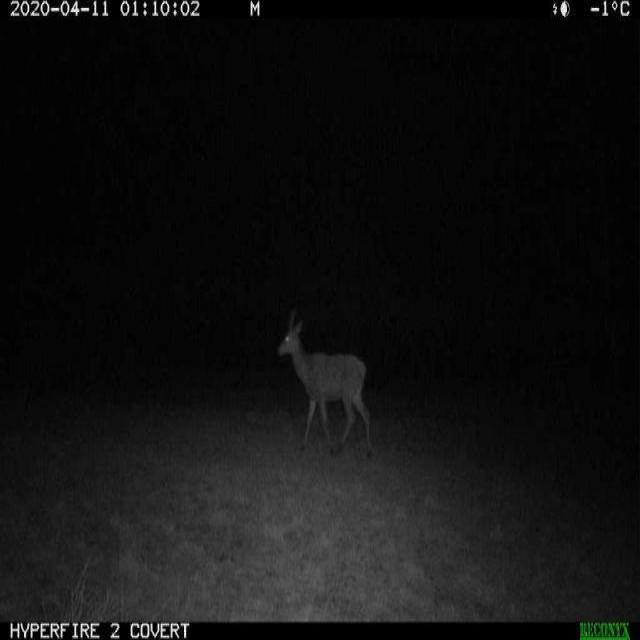deer: (261, 300, 380, 472)
